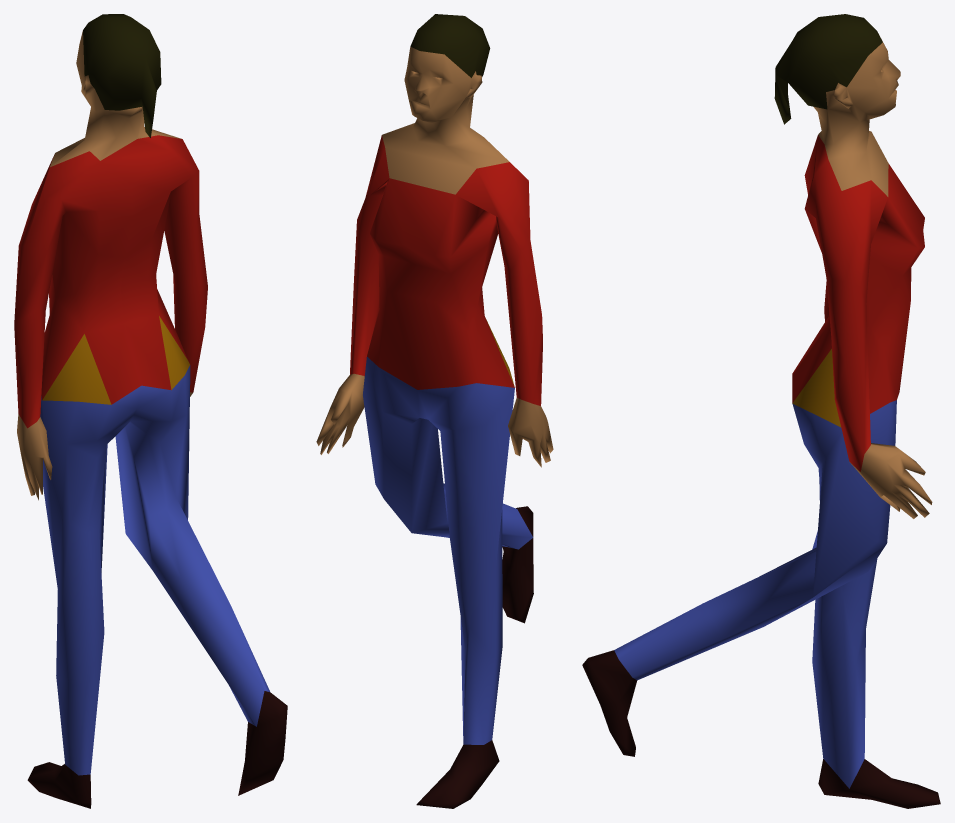
Rendered from personlowpoly_000003.obj.
3 renders of one model, left to right at view 1: azimuth 30°, elevation 25°; view 2: azimuth 150°, elevation 25°; view 3: azimuth 270°, elevation 25°, orthographic. The views are drawn at different scales.
Parts seen in each view (by area): view 1: Cube; view 2: Cube; view 3: Cube.
Part boxes in pixels (x1,y1,x2,y2): Cube: (14,14,287,808); Cube: (316,14,553,808); Cube: (582,14,940,808).
Size of the model in its own units: 24.66 by 94.7 by 38.47.
